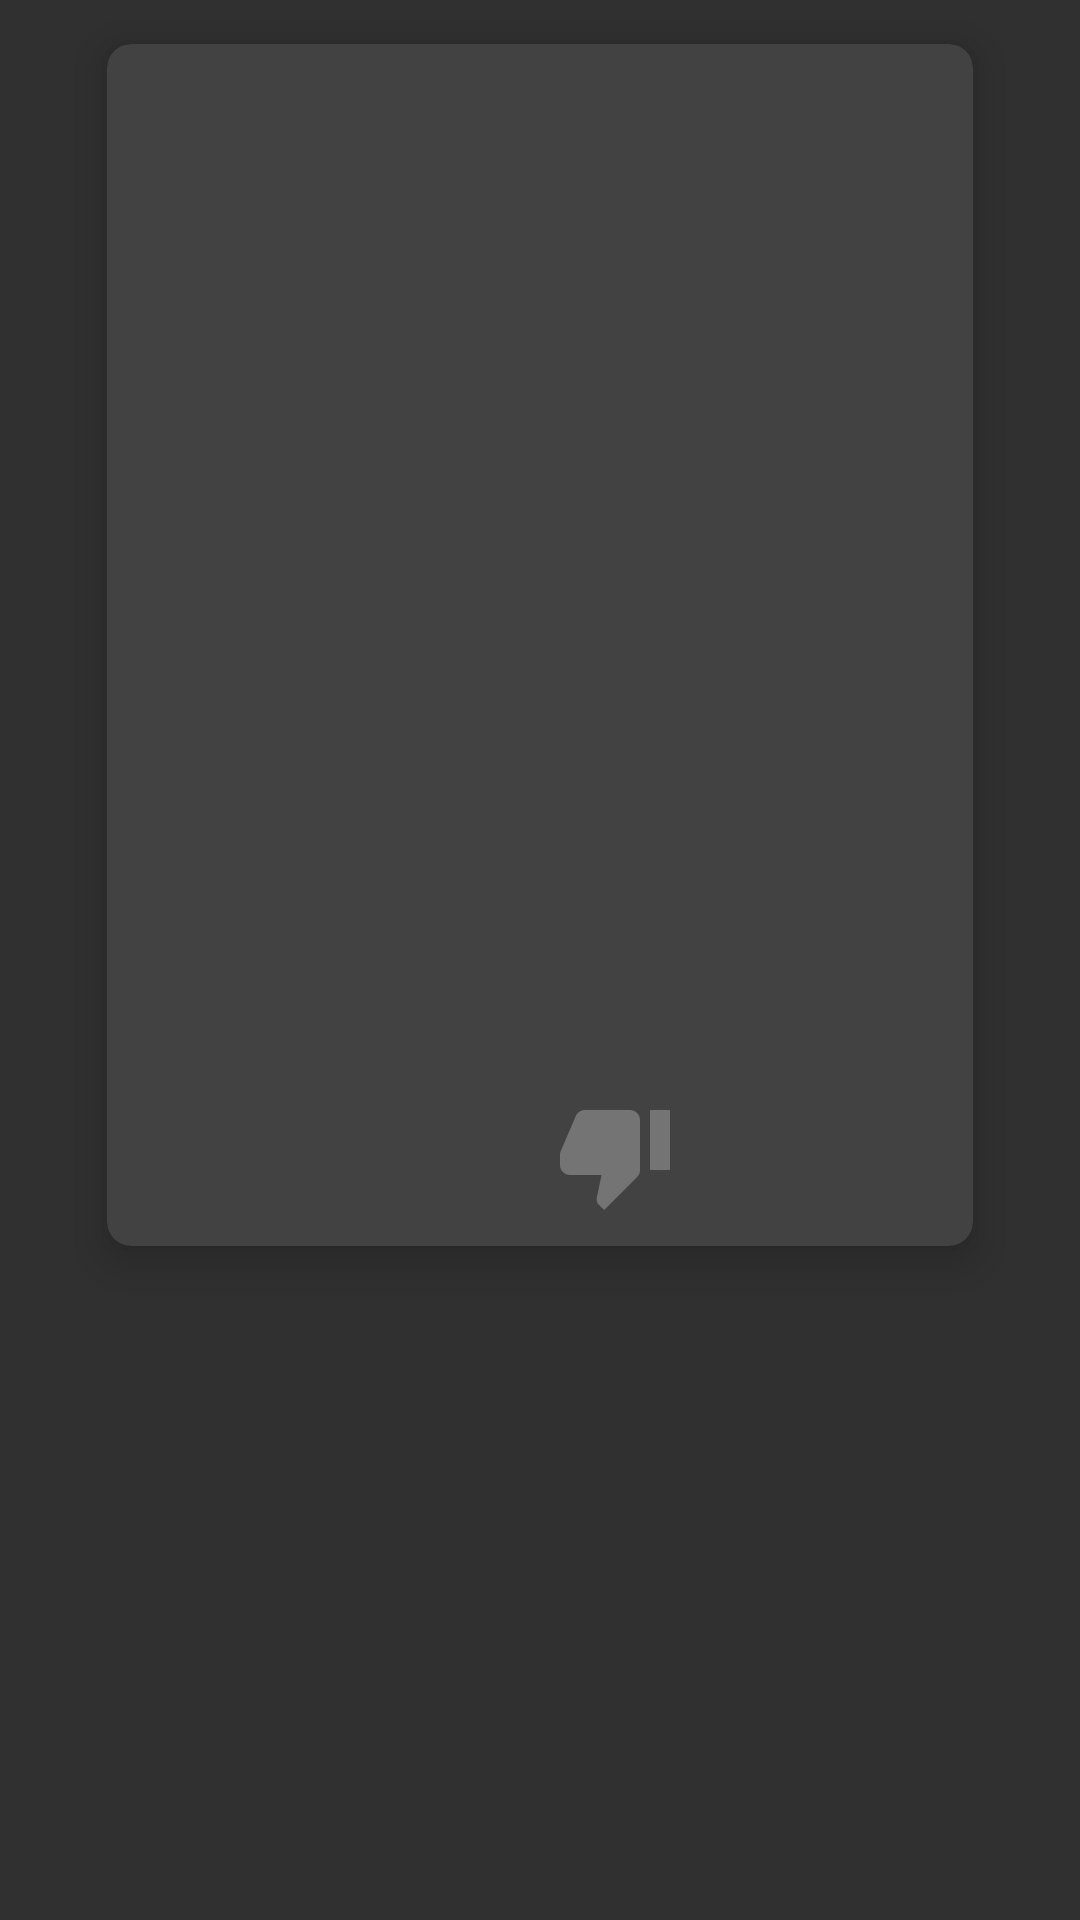

Named icons in this screenshot (1080 x 1920) and their bounding boxes, (x1, y1, x2, y2):
dislike: (560, 1110, 670, 1210)
